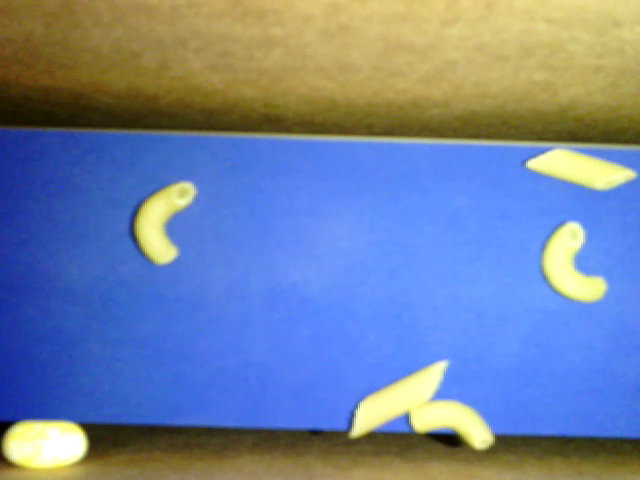elbow: (539, 219, 606, 304), (133, 180, 198, 265), (407, 399, 495, 449)
penne: (349, 359, 449, 437), (524, 147, 638, 189)
